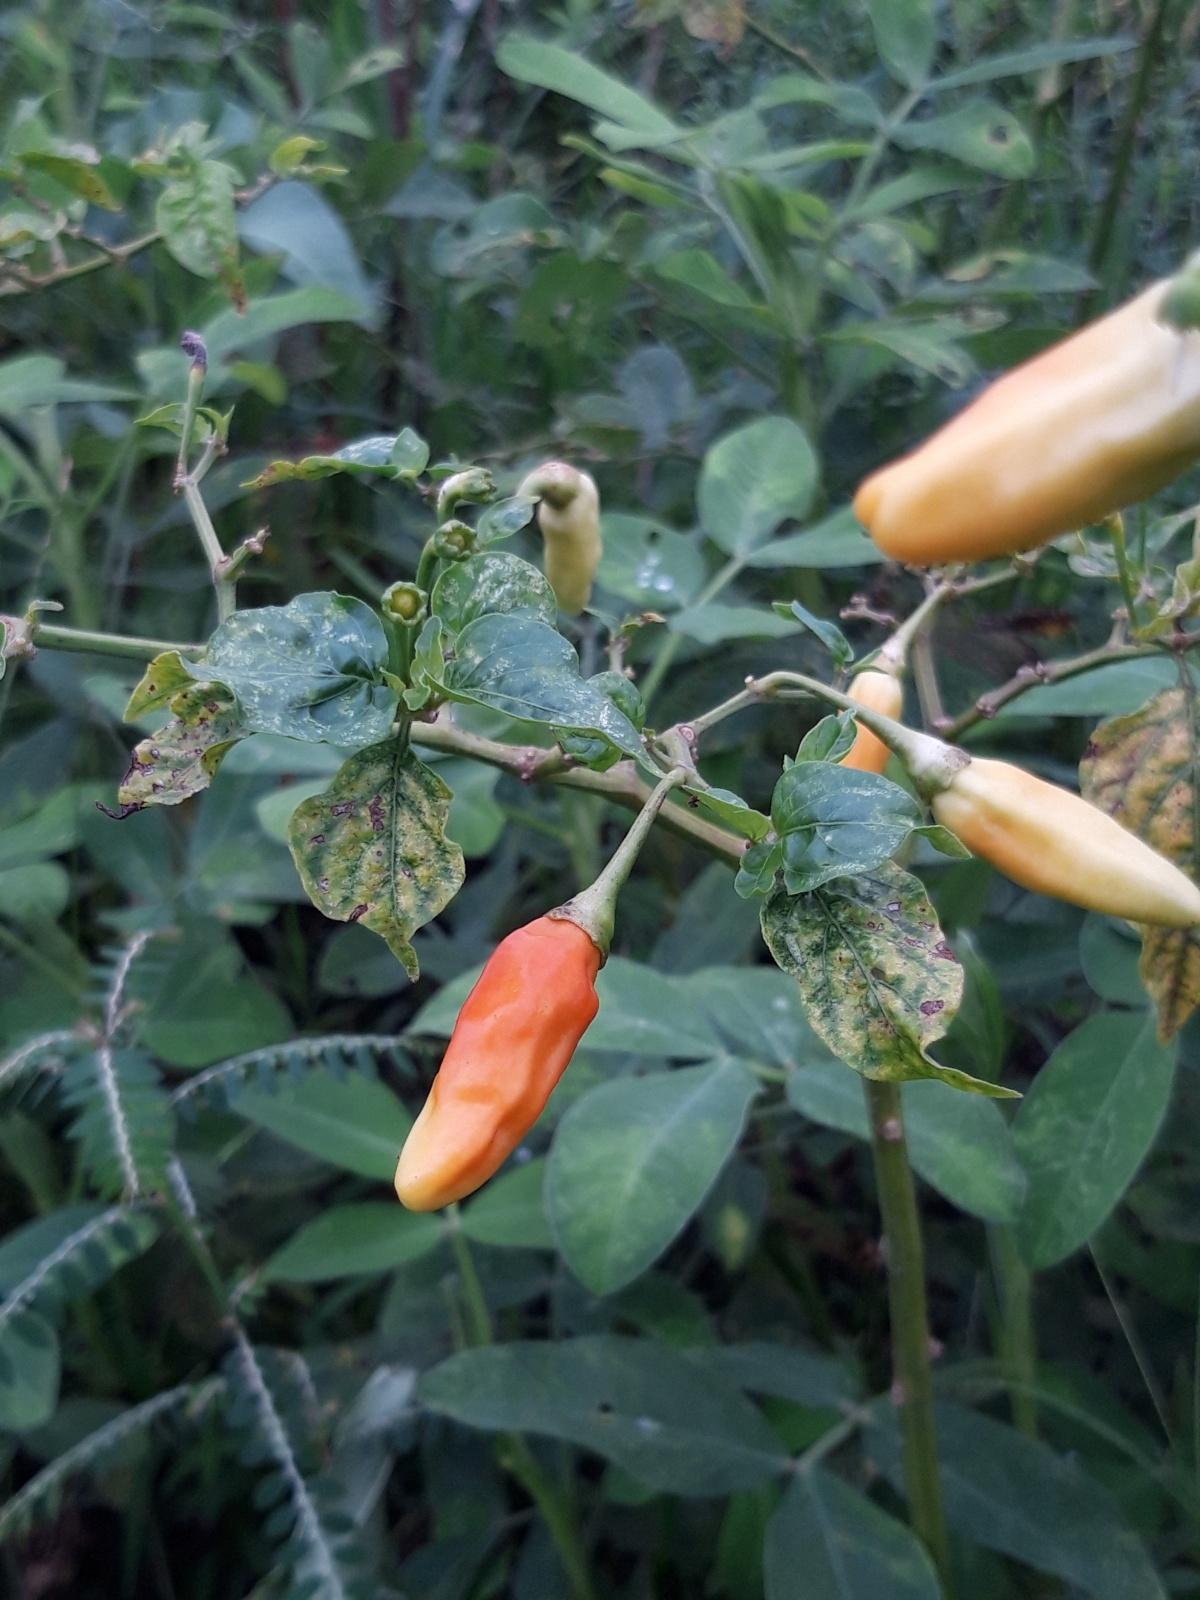cabai_normal: (852, 281, 1200, 567), (396, 921, 603, 1217), (928, 757, 1200, 922), (542, 471, 605, 614), (832, 673, 909, 775)
